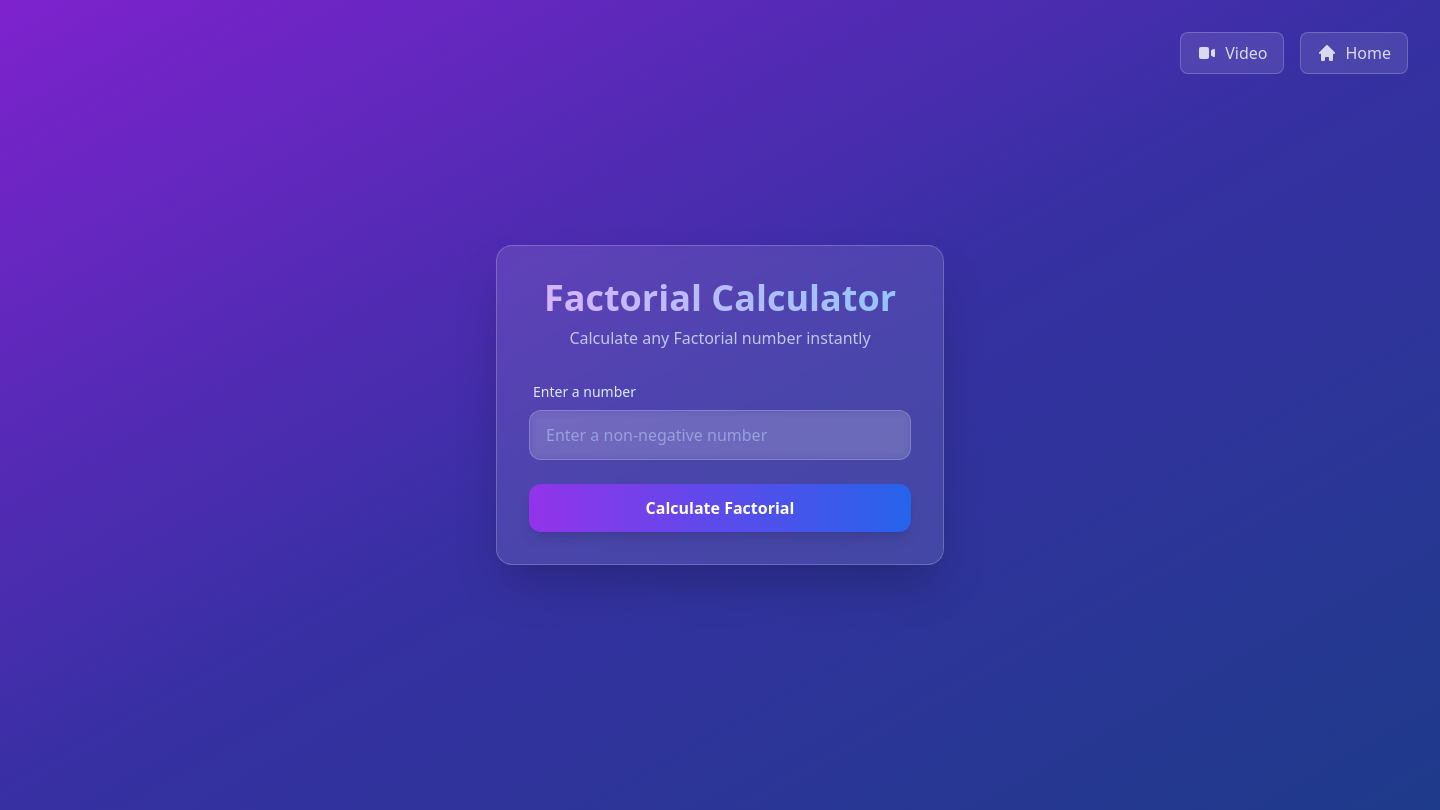
Factorial Component › handles API error correctly
Type "5" into the number field with placeholder "Enter a non-negative number" at (720, 435), box left=529, top=410, right=911, bottom=460
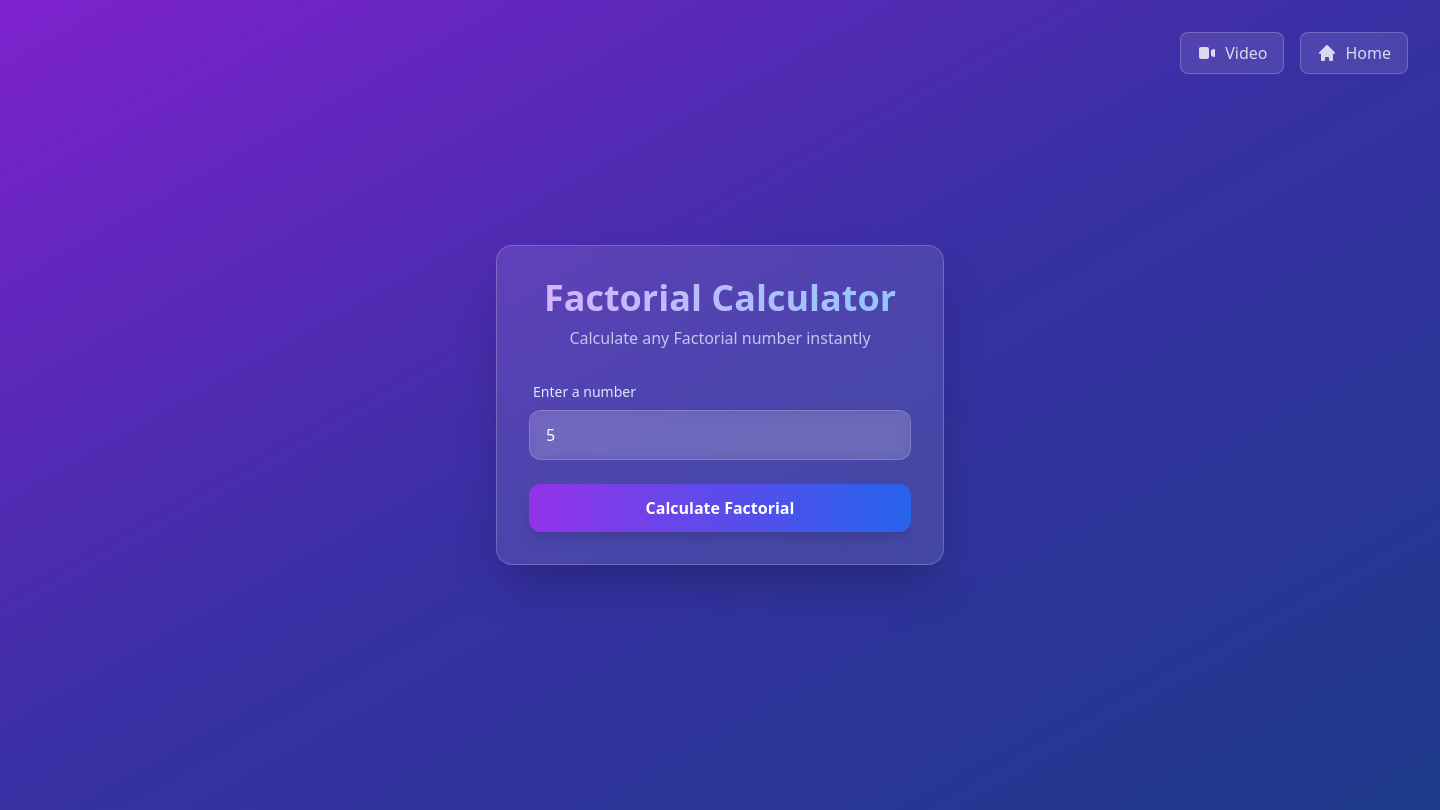
Click the button "Calculate Factorial" at (720, 508), box left=529, top=484, right=911, bottom=532
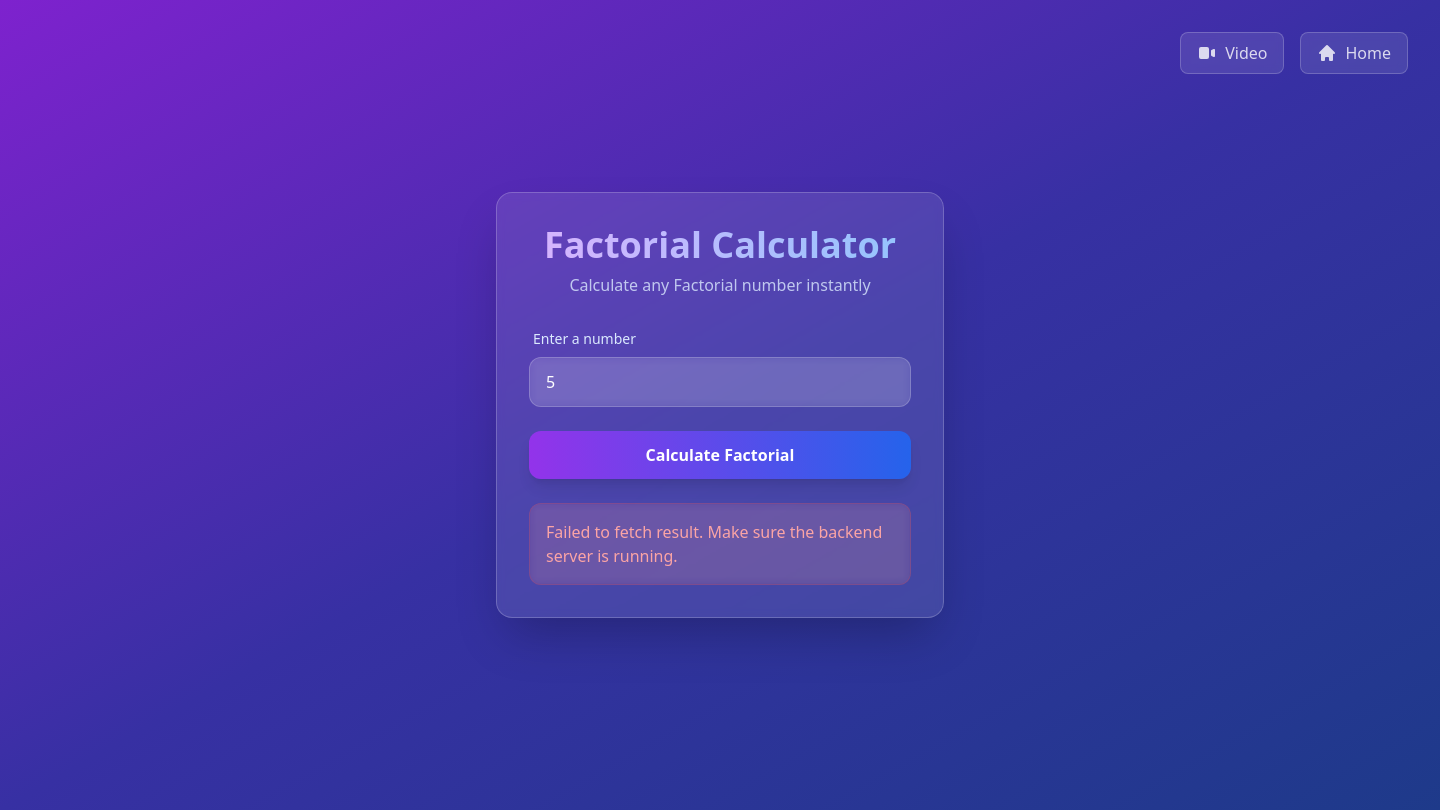
Expected: the text "Failed to fetch result. Make sure the backend server is running." is shown, left=546, top=520, right=894, bottom=568
